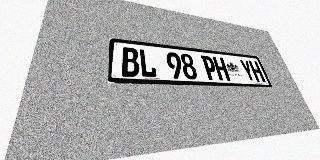8: (179, 53, 198, 79)
9: (165, 52, 184, 79)
B: (121, 47, 140, 77)
H: (212, 57, 231, 81), (248, 60, 266, 82)
L: (139, 49, 157, 78)
P: (201, 55, 219, 80)
Y: (239, 59, 257, 82)
